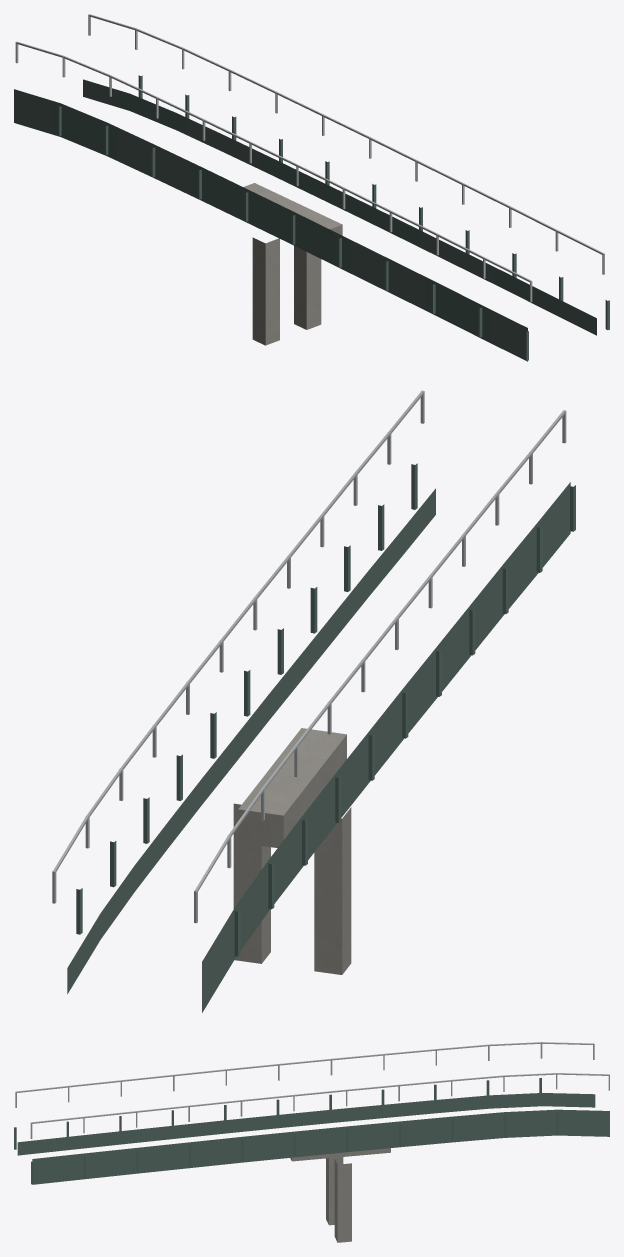
The model's file is bridge-ponce.glb.
The picture shows the model from 3 angles, top to bottom: view 1: azimuth 30°, elevation 25°; view 2: azimuth 150°, elevation 25°; view 3: azimuth 270°, elevation 25°; orthographic projection. The views are drawn at different scales.
Parts seen in each view (by area): view 1: bridge-ponce_lod0; view 2: bridge-ponce_lod0; view 3: bridge-ponce_lod0.
Part boxes in pixels (x1,y1,x2,y2): bridge-ponce_lod0: (14,14,609,361); bridge-ponce_lod0: (52,390,575,1012); bridge-ponce_lod0: (14,1042,609,1242).
Size of what is drawn, in the model's own units: 10.99 by 9.37 by 32.37.
Materials: 4 (2 with a texture image).
